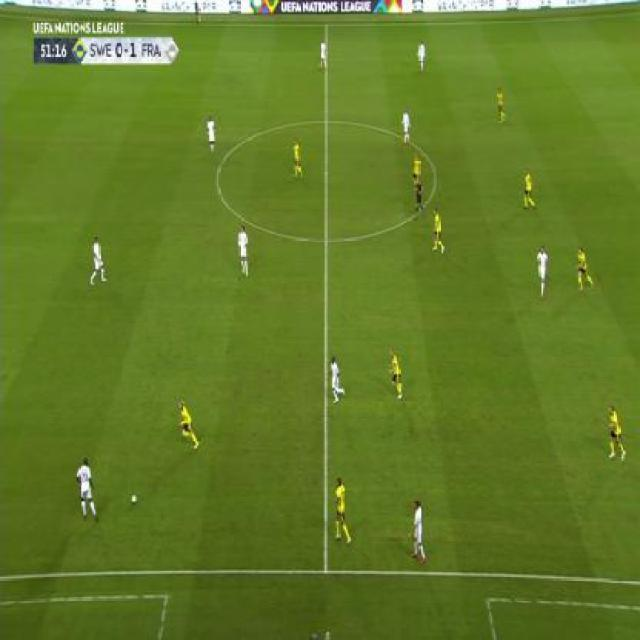ball: (130, 492, 138, 505)
player: (75, 454, 101, 522), (331, 476, 353, 545), (605, 402, 628, 462), (175, 397, 200, 451), (408, 498, 428, 563), (88, 235, 107, 288), (574, 244, 594, 292), (328, 354, 347, 403), (535, 243, 551, 300), (235, 223, 251, 277), (388, 348, 404, 399), (431, 206, 447, 254), (521, 166, 537, 212), (411, 178, 425, 221), (205, 114, 218, 154), (291, 138, 304, 178), (495, 85, 508, 124), (399, 108, 412, 144), (412, 153, 423, 190), (317, 38, 328, 71), (416, 40, 427, 71), (193, 1, 201, 24)
